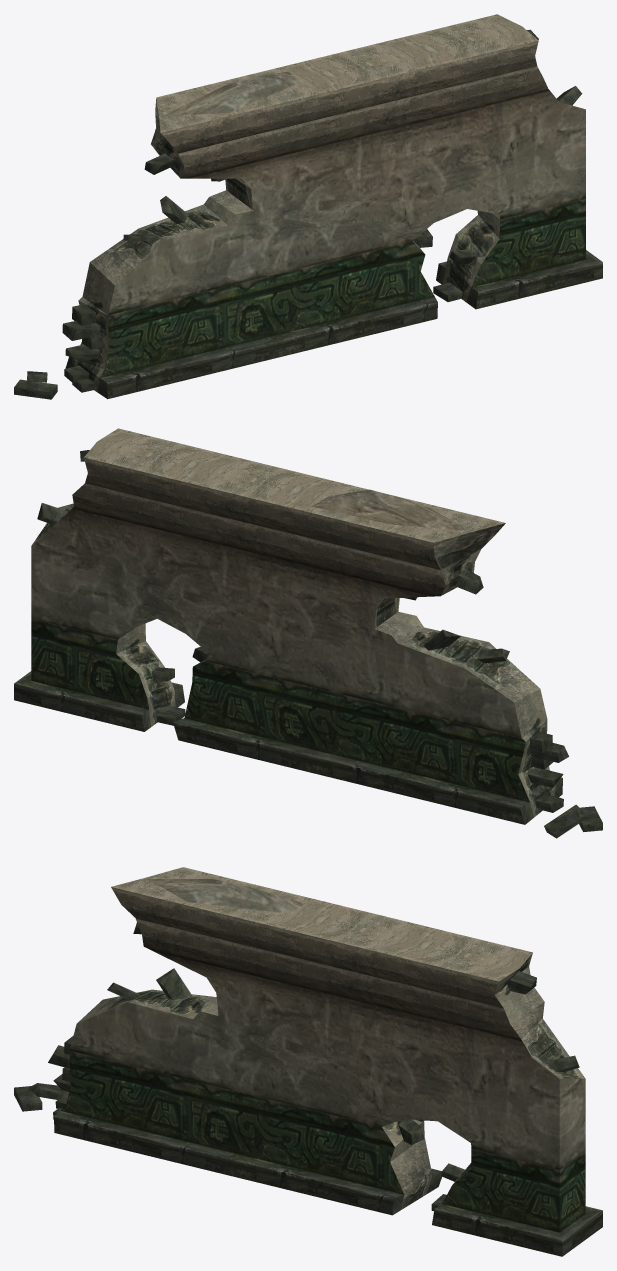
The model's file is poqiang_xn_61.FBX.
The picture shows the model from 3 angles, top to bottom: view 1: azimuth 30°, elevation 25°; view 2: azimuth 150°, elevation 25°; view 3: azimuth 330°, elevation 25°; orthographic projection. The views are drawn at different scales.
Visible parts, largest first — view 1: poqiang_xn_61; view 2: poqiang_xn_61; view 3: poqiang_xn_61.
Part boxes in pixels (bbox=[...]): poqiang_xn_61: bbox=[14, 14, 602, 399]; poqiang_xn_61: bbox=[14, 428, 602, 838]; poqiang_xn_61: bbox=[14, 867, 602, 1256].
Size of what is drawn, in the model's own units: 822 by 381 by 113.
